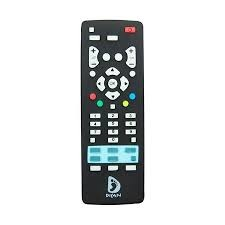remote control: (78, 21, 151, 208)
